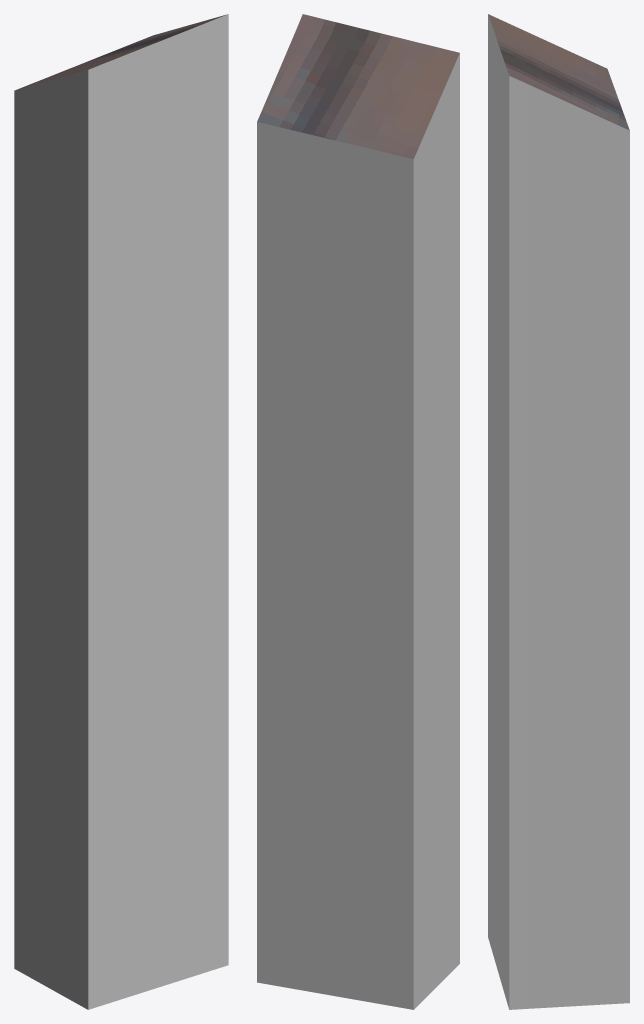
Rendered from DEBW_0010007THvk.gltf.
3 views of the same model, side by side, from view 1: azimuth 30°, elevation 25°; view 2: azimuth 150°, elevation 25°; view 3: azimuth 270°, elevation 25° (orthographic). The views are drawn at different scales.
Parts seen in each view (by area): view 1: Z_UP; view 2: Z_UP; view 3: Z_UP.
Boxes of the visible parts, box(x1,y1,x2,y2) form: Z_UP: box(14, 14, 228, 1009); Z_UP: box(257, 14, 459, 1009); Z_UP: box(488, 14, 629, 1009).
Bounding box in the file's own units: 3 × 16.57 × 2.28.
2 materials, 1 textured.
